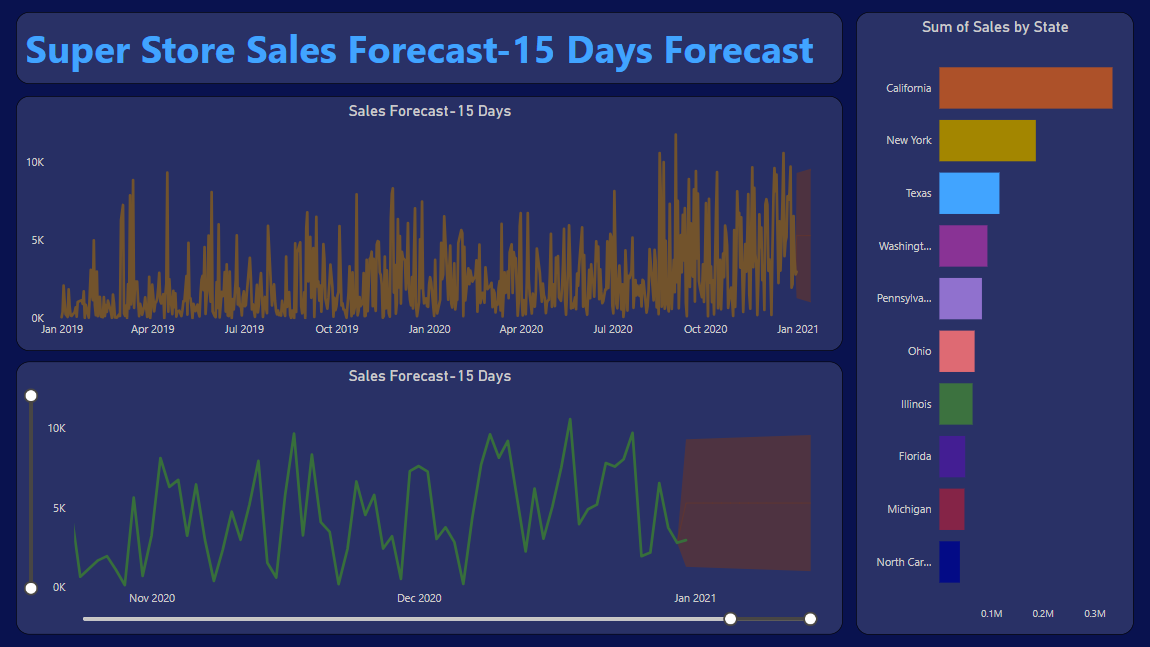

The dashboard page shown, as its layout file describes it:
{"tool":"powerbi","page":{"name":"Sales Forecast","canvas":[1280,720],"ordinal":1},"visuals":[{"type":"lineChart","title":"Sales Forecast-15 Days","fields":{"Y":["Sum(SuperStore_Sales_Dataset.Sales)"],"Category":["SuperStore_Sales_Dataset.Order Date"]},"box":[20,106.7,918.3,283.3],"z":0},{"type":"lineChart","title":"Sales Forecast-15 Days","fields":{"Y":["Sum(SuperStore_Sales_Dataset.Sales)"],"Category":["SuperStore_Sales_Dataset.Order Date"]},"box":[20,401.7,918.3,303.3],"z":1000},{"type":"textbox","box":[20,13.3,918.3,80],"z":2000},{"type":"clusteredBarChart","fields":{"Category":["SuperStore_Sales_Dataset.State"],"Y":["Sum(SuperStore_Sales_Dataset.Sales)"]},"box":[953.3,13.3,308.3,691.7],"z":2001}]}

Visuals, with their boxes in screenshot pixels (x1, y1, x2, y2), scaled from the page's 1280x720 canvas onto the 1150x647 screenshot:
"Sales Forecast-15 Days" lineChart: <region>18, 96, 843, 350</region>
"Sales Forecast-15 Days" lineChart: <region>18, 361, 843, 634</region>
textbox: <region>18, 12, 843, 84</region>
clusteredBarChart - SuperStore_Sales_Dataset.State x Sum(SuperStore_Sales_Dataset.Sales): <region>856, 12, 1133, 634</region>
